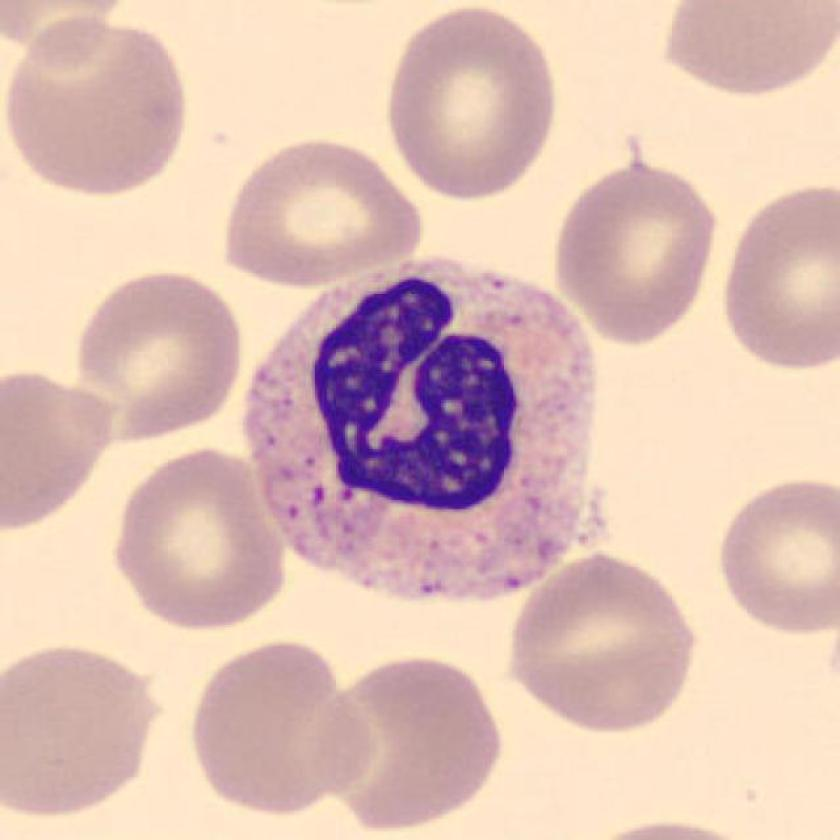neutrophil: (241, 260, 602, 594)
